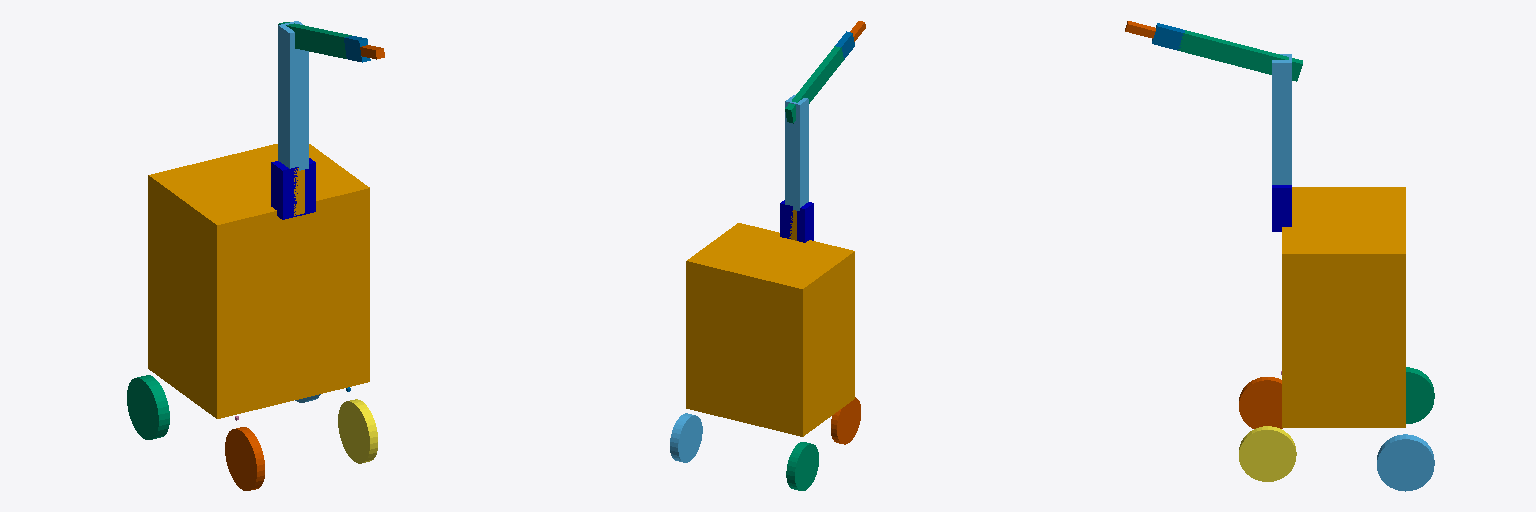
robot.urdf — Base_arm:
<?xml version="1.0"?>
<robot name="Base_arm">

  <!-- Lea dimentions: xbase=0.55 ybase= 0.428 zbase=~0.932 -->
  <!-- Lea positions from center base: x=0 y=0 z=rweel+zbase/2=0.666  -->

  <!-- Lea wheel dimentions: rwheel=0.20 twheel=~0.04 rcwheel=0.2 twheel=~0.03 -->

  <!-- Lea wheel positions from center base: xwheel=0.275 ywheel=0.214 zwheel=rwheel=0.20  -->
  <!-- Lea custerwheel positions from center base: xcwheel=0.203 ycwheel=-0.214 zcwheel=rwheel=0.20  -->
  <link name="base_link">
    <visual>
      <origin xyz="0 0 0.666" rpy="0 0 0"/>
      <geometry>
        <box size="0.55 0.428 0.666"/>
      </geometry>
    </visual>
  </link>

  <!-- Back wheels-->
  <link name="right_wheel">
    <visual>
      <origin xyz="0 0 0" rpy="0 0 0"/>
      <geometry>
        <cylinder radius="0.1" length="0.04"/>
      </geometry>
    </visual>
  </link>

  <joint name="right_wheel_joint" type="continuous">
    <axis xyz="0 0 1" rpy="0 0 0"/>
    <parent link="base_link"/>
    <child link="right_wheel"/>
    <origin xyz="0.275 .214 0.2" rpy="0 1.57 0"/>
  </joint>

  <link name="left_wheel">
    <visual>
      <origin xyz="0 0 0" rpy="0 0 0"/>
      <geometry>
        <cylinder radius="0.1" length="0.04"/>
      </geometry>
    </visual>
  </link>

  <joint name="left_wheel_joint" type="continuous">
    <axis xyz="0 0 1" rpy="0 0 0"/>
    <parent link="base_link"/>
    <child link="left_wheel"/>
    <origin xyz="-0.275 .214 0.2" rpy="0 1.57 0"/>
  </joint>

  <!-- custer wheels right-->
  <link name="right_cwheel">
    <visual>
      <origin xyz="0 0 0" rpy="0 0 0"/>
      <geometry>
        <cylinder radius="0.1" length="0.03"/>
      </geometry>
    </visual>
  </link>

  <link name="right_joint">
    <visual>
      <origin xyz="0 0.01 0.12" rpy="0 0 0"/>
      <geometry>
        <box size="0.01 0.01 0.01"/>
      </geometry>
    </visual>
  </link>

  <joint name="right_cwheel_joint1" type="continuous">
    <axis xyz="0 0 1" rpy="0 0 0"/>
    <parent link="base_link"/>
    <child link="right_joint"/>
    <origin xyz="0.203 -.214 0.2" rpy="0 0 0"/>
  </joint>

  <joint name="right_cwheel_joint2" type="continuous">
    <axis xyz="0 0 1" rpy="0 0 0"/>
    <parent link="right_joint"/>
    <child link="right_cwheel"/>
    <origin xyz="0 -0.05 0" rpy="0 1.57 0"/>
  </joint>

  <!-- custer wheels left-->
  <link name="left_cwheel">
    <visual>
      <origin xyz="0 0 0" rpy="0 0 0"/>
      <geometry>
        <cylinder radius="0.1" length="0.03"/>
      </geometry>
    </visual>
  </link>

  <link name="left_joint">
    <visual>
      <origin xyz="0 0 0.12" rpy="0 0 0"/>
      <geometry>
        <box size="0.01 0.01 0.01"/>
      </geometry>
    </visual>
  </link>

  <joint name="left_cwheel_joint1" type="continuous">
    <axis xyz="0 0 1" rpy="0 0 0"/>
    <parent link="base_link"/>
    <child link="left_joint"/>
    <origin xyz="-0.203 -.214 0.2" rpy="0 0 0"/>
  </joint>

  <joint name="left_cwheel_joint2" type="continuous">
    <axis xyz="0 0 1" rpy="0 0 0"/>
    <parent link="left_joint"/>
    <child link="left_cwheel"/>
    <origin xyz="0 -0.05 0" rpy="0 1.57 0"/>
  </joint>



  <link name = "link0">
   <visual>
    <geometry>
     <box size ="0.12 0.07 0.17"/>
    </geometry>
    <origin rpy ="0 0 0" xyz = "0 0 0"/>
     <material name="blue">
        <color rgba="0 0 0.8 1"/>
     </material>
     </visual>
  </link>


  <joint name="joint_arm_base" type="fixed">
   <axis xyz = "0 0 1"/>
   <origin rpy ="0 0 -3.14" xyz = "0 -0.214 1.066"/>
   <parent link = "base_link"/>
   <child link = "link0"/>
  </joint>

  <link name="bl">
    <visual>
      <geometry>
        <box size ="0.04 0.07 0.16"/>
        <origin rpy ="0 0 0" xyz = "0 0 0"/>
      </geometry>
    </visual>
  </link>



  <joint name="joint0" type="continuous">
   <axis xyz = "0 0 1"/>
    <limit effort="1000.0" lower="-3" upper="3" velocity="0.5"/>
   <origin rpy ="0 0 0" xyz = "0 0 0"/>
   <parent link = "link0"/>
   <child link = "bl"/>
  </joint>

  <link name="link1">
    <visual>
      <geometry>
	<box size="0.07 0.07 0.48"/>
      </geometry>
	<origin rpy="0 0 1.57" xyz="0 0.0 0.22"/>
    </visual>
  </link>

  <joint name="joint1" type="revolute">
    <axis xyz = "1 0 0"/>
    <limit effort="1000.0" lower="-1.727" upper="1.57" velocity="0.25"/>
    <origin rpy ="0.0 0. 0" xyz ="0 0 0.09"/>
    <parent link="bl"/>
    <child link="link1"/>
  </joint>

  <link name = "link2">
   <visual>
     <geometry>
       <box size = "0.03 0.43 0.07"/>
     </geometry>
	<origin rpy= "0 0 0" xyz="0 0.15 0"/>
   </visual>
  </link>

<link name="link_virtual">
<origin rpy= "0 0 0" xyz="0 0.15 0"/>
</link>

  <joint name ="joint2" type="revolute">
   <axis xyz = "1 0 0 "/>
    <limit effort="1000.0" lower="-2.6" upper="2.6" velocity="0.25"/>
   <origin rpy ="0.28 0 0" xyz = "0 0.0 0.43"/>
   <parent link ="link1"/>
   <child link = "link_virtual"/>
  </joint>

<joint name ="joint3" type="revolute">
   <axis xyz = "0 1 0 "/>
    <limit effort="1000.0" lower="-3.61" upper="3.61" velocity="0.25"/>
   <origin rpy ="0 0 0" xyz = "0 0.0 0.0"/>
   <parent link ="link_virtual"/>
   <child link = "link2"/>
  </joint>

  <link name = "link3">
   <visual>
     <geometry>
       <box size = "0.03 0.1 0.07"/>
     </geometry>
	<origin rpy= "0 0 0" xyz="0 0.03 0.0"/>
   </visual>
  </link>

  <joint name ="joint4" type="revolute">
   <axis xyz = "1 0 0 "/>
    <limit effort="1000.0" lower="-1.64" upper="1.64" velocity="0.25"/>
   <origin rpy ="0 0 0" xyz = "0 0.38 0.0"/>
   <parent link ="link2"/>
   <child link = "link3"/>
  </joint>

  <link name = "link4">
   <visual>
     <geometry>
       <box size = "0.03 0.1 0.03"/>
     </geometry>
	<origin rpy= "0 0 0" xyz="0 0.03 0.0"/>
   </visual>
  </link>

  <joint name ="joint5" type="revolute">
   <axis xyz = "0 1 0 "/>
    <limit effort="1000.0" lower="-2.44" upper="2.44" velocity="0.25"/>
   <origin rpy ="0 0 0" xyz = "0 0.1 0.0"/>
   <parent link ="link3"/>
   <child link = "link4"/>
  </joint>


<link name="camera_link">
<origin rpy= "0 0 0" xyz="0 0 0"/>
</link>
<joint name="kinect_joint1" type="fixed">
    <parent link="link0"/>
    <child link="camera_link"/>
    <origin rpy="1.57079632679 0 3.14159265359" xyz="0.10 -0.1 0.48"/>
    <axis xyz="0 0 0" />
</joint>



</robot>

--- What the picture shows (computed from the rendered views, not written in the file) ---
Views: 3 orthographic renders of the robot side by side, from view 1: azimuth 30°, elevation 25°; view 2: azimuth 150°, elevation 25°; view 3: azimuth 270°, elevation 25°.
Model Base_arm with 15 links and 14 joints (5 revolute, 7 continuous, 2 fixed), rooted at base_link, posed all joints at 0.
Visible links, largest first — view 1: base_link, link1, left_wheel, right_cwheel, left_cwheel, link0, link2; view 2: base_link, link1, right_wheel, left_wheel, link2, link0, left_cwheel; view 3: base_link, right_wheel, right_cwheel, link1, link2, left_cwheel, left_wheel, link0, link3.
Link boxes in pixels (x1=…): base_link: x1=148, y1=144, x2=369, y2=418; link1: x1=278, y1=21, x2=308, y2=170; left_wheel: x1=127, y1=375, x2=169, y2=439; right_cwheel: x1=338, y1=399, x2=377, y2=463; left_cwheel: x1=225, y1=427, x2=264, y2=490; link0: x1=271, y1=158, x2=315, y2=219; link2: x1=278, y1=22, x2=351, y2=58; base_link: x1=686, y1=223, x2=854, y2=436; link1: x1=785, y1=95, x2=808, y2=210; right_wheel: x1=670, y1=413, x2=702, y2=462; left_wheel: x1=786, y1=442, x2=818, y2=490; link2: x1=785, y1=46, x2=843, y2=123; link0: x1=780, y1=200, x2=813, y2=242; left_cwheel: x1=831, y1=397, x2=860, y2=444; base_link: x1=1282, y1=187, x2=1405, y2=427; right_wheel: x1=1377, y1=434, x2=1434, y2=491; right_cwheel: x1=1239, y1=426, x2=1296, y2=481; link1: x1=1272, y1=54, x2=1291, y2=184; link2: x1=1178, y1=30, x2=1302, y2=81; left_cwheel: x1=1239, y1=377, x2=1282, y2=428; left_wheel: x1=1406, y1=367, x2=1434, y2=423; link0: x1=1272, y1=185, x2=1291, y2=231; link3: x1=1152, y1=23, x2=1184, y2=50.
Size in the robot's own frame: 0.5902 by 1.07 by 1.66 metres.
Geometry: primitives only (box / cylinder / sphere), no mesh files.